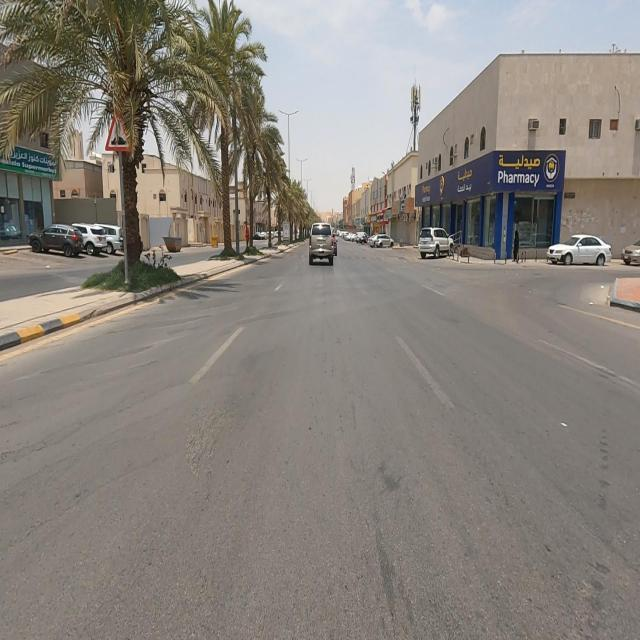debris: (391, 175, 428, 228), (382, 181, 407, 231)
